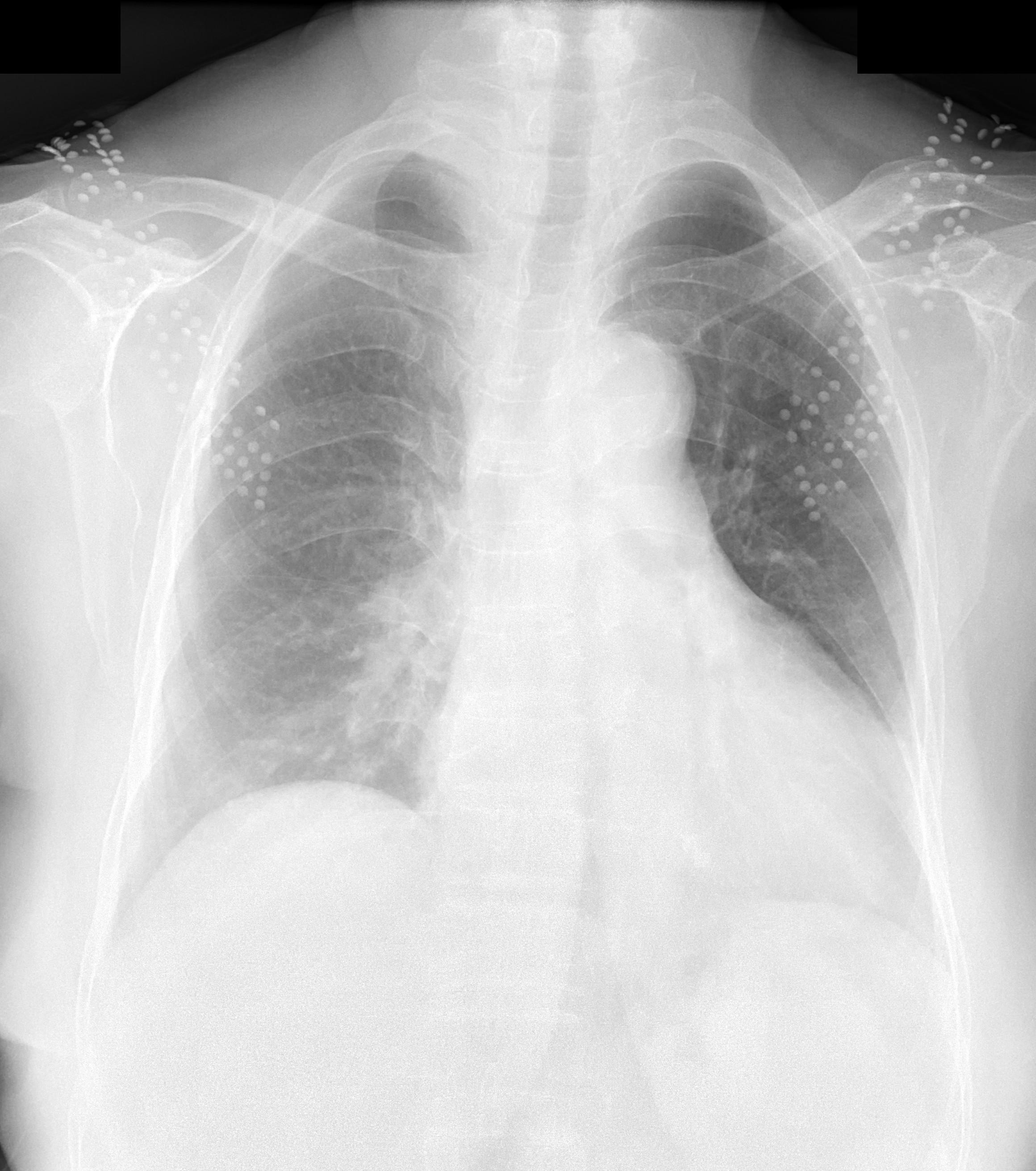Aortic enlargement: (563, 331, 692, 483)
Cardiomegaly: (416, 684, 910, 841)
